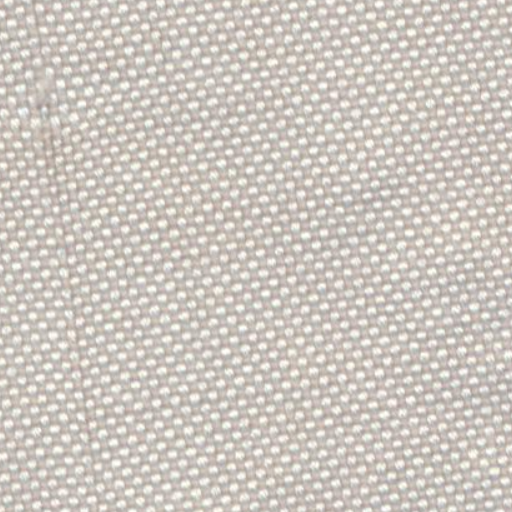TuoSha: (22, 166, 124, 496)
